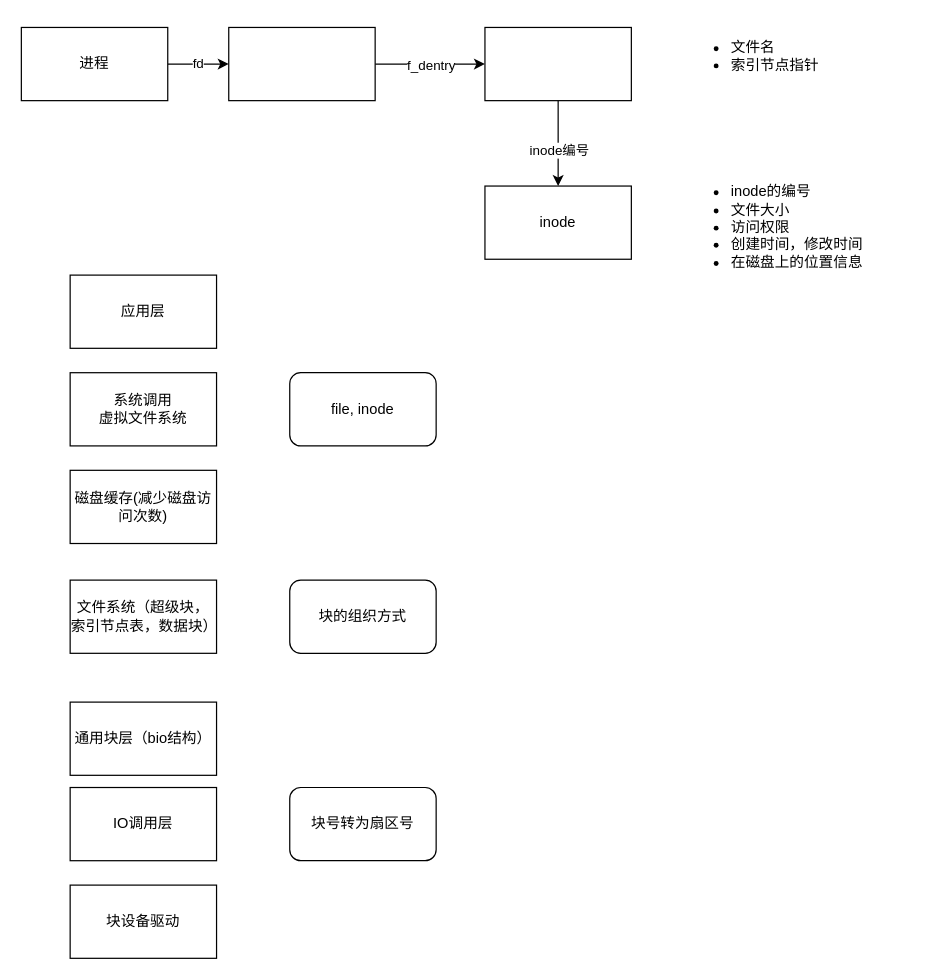
The diagram is 946 pixels wide and 980 high, and some of its shapes have lost their labels. The shapes that lost their labels are listed below. From the top down, each one's box as (x1, y1, x2, y2) in pixels, then its label:
(228, 26, 375, 101): File Object
(484, 26, 631, 101): 目录项dentry
